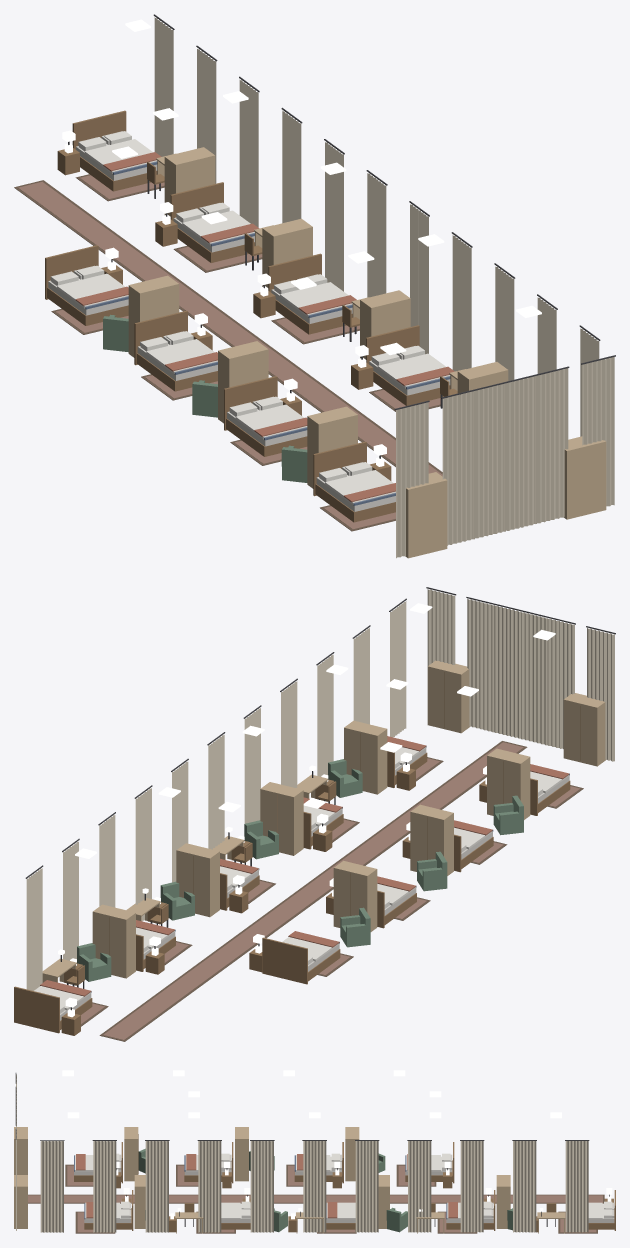
File: fine-s1.glb
3 views of the same model, one above another, from view 1: azimuth 30°, elevation 25°; view 2: azimuth 150°, elevation 25°; view 3: azimuth 270°, elevation 25° (orthographic). The views are drawn at different scales.
Visible parts, largest first — view 1: soft-s1, dresser.008, dresser.003, bed-frame.003, bed-frame.000, bed-frame.001, bed-frame.002, bed-frame.004, bed-frame.005, bed-frame.006, bed-frame.007, dresser.000 (+9 smaller); view 2: soft-s1, dresser.003, dresser.008, dresser.004, dresser.005, dresser.006, dresser.007, dresser.000, dresser.002, dresser.001, bed-frame.000, bed-frame.004 (+11 smaller); view 3: soft-s1, dresser.002, dresser.001, dresser.004, dresser.008, dresser.000, dresser.007, dresser.003, dresser.005, bed-frame.008, bed-frame.005, lounge-chair.004 (+9 smaller).
Part boxes in pixels (left/top/right/bottom): soft-s1: left=14, top=14, right=615, bottom=558; dresser.008: left=564, top=436, right=606, bottom=519; dresser.003: left=405, top=472, right=447, bottom=558; bed-frame.003: left=313, top=441, right=395, bottom=522; bed-frame.000: left=45, top=245, right=128, bottom=325; bed-frame.001: left=134, top=310, right=217, bottom=391; bed-frame.002: left=224, top=376, right=307, bottom=456; bed-frame.004: left=72, top=110, right=157, bottom=191; bed-frame.005: left=170, top=182, right=254, bottom=262; bed-frame.006: left=268, top=253, right=352, bottom=334; bed-frame.007: left=366, top=325, right=450, bottom=405; dresser.000: left=128, top=275, right=179, bottom=357; soft-s1: left=25, top=587, right=615, bottom=1041; dresser.003: left=563, top=693, right=606, bottom=766; dresser.008: left=427, top=660, right=470, bottom=733; dresser.004: left=92, top=904, right=135, bottom=978; dresser.005: left=176, top=843, right=219, bottom=917; dresser.006: left=260, top=782, right=303, bottom=855; dresser.007: left=344, top=720, right=387, bottom=794; dresser.000: left=333, top=860, right=377, bottom=931; dresser.002: left=487, top=748, right=530, bottom=819; dresser.001: left=410, top=804, right=453, bottom=875; bed-frame.000: left=262, top=937, right=340, bottom=984; bed-frame.004: left=14, top=986, right=92, bottom=1033; soft-s1: left=15, top=1073, right=612, bottom=1233; dresser.002: left=124, top=1127, right=138, bottom=1181; dresser.001: left=235, top=1127, right=248, bottom=1181; dresser.004: left=496, top=1175, right=510, bottom=1228; dresser.008: left=14, top=1175, right=27, bottom=1228; dresser.000: left=345, top=1127, right=359, bottom=1181; dresser.007: left=134, top=1175, right=145, bottom=1228; dresser.003: left=14, top=1127, right=27, bottom=1174; dresser.005: left=378, top=1175, right=389, bottom=1228; bed-frame.008: left=84, top=1190, right=133, bottom=1230; bed-frame.005: left=446, top=1190, right=495, bottom=1230; lounge-chair.004: left=386, top=1207, right=407, bottom=1232.
Size of the model in its own units: 6.99 by 4.99 by 25.76.
